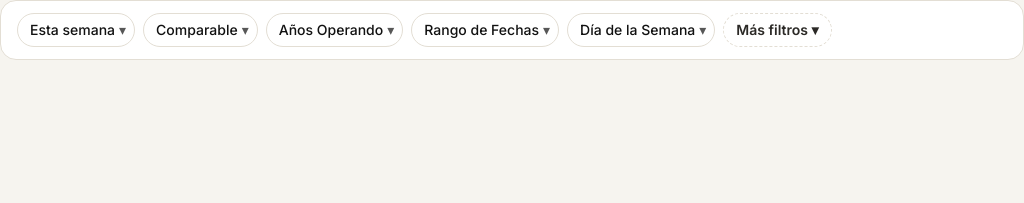
Test case: <FiltrosBi> en píldoras › 5 píldoras visibles y «Más filtros» despliega las 12 restantes
The width and height of the screenshot is (1024, 203).
Expected: the button "Esta semana ▾" is shown, [18,14,134,46]
Expected: the button "Comparable ▾" is shown, [144,14,257,46]
Click the button "Más filtros ▾": (777, 30) [723,13,832,47]
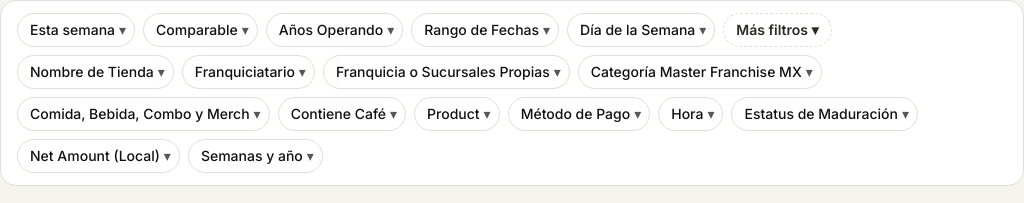
Now the button "Nombre de Tienda ▾" is shown, box [18,56,173,88]
Now the button "Product ▾" is shown, box [415,98,499,130]
Now the button "Net Amount (Local) ▾" is shown, box [18,140,179,172]
